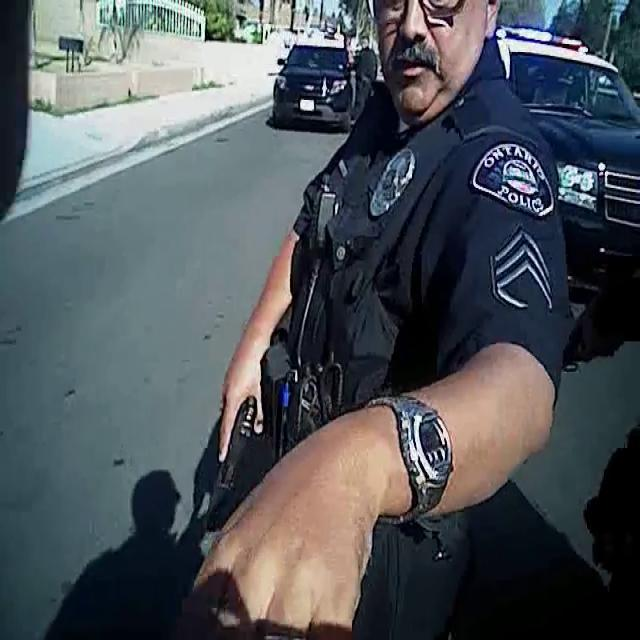gun: (205, 378, 259, 538)
